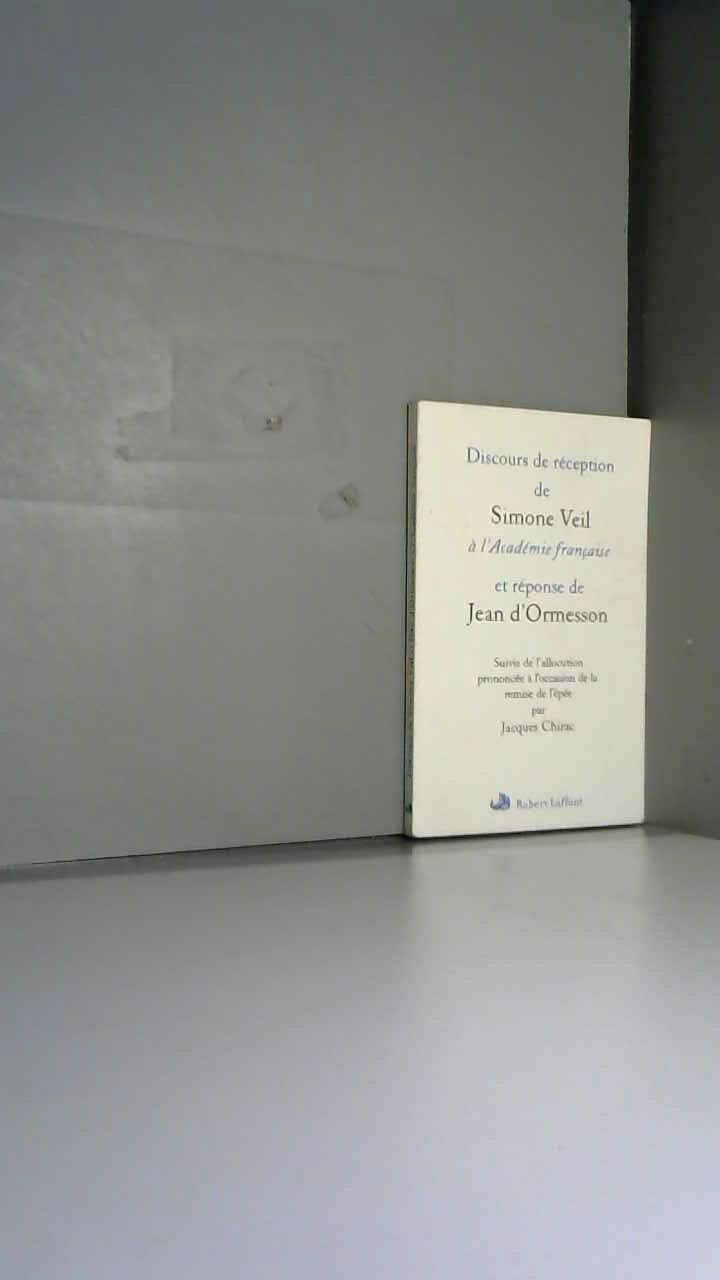book: (390, 370, 720, 897)
